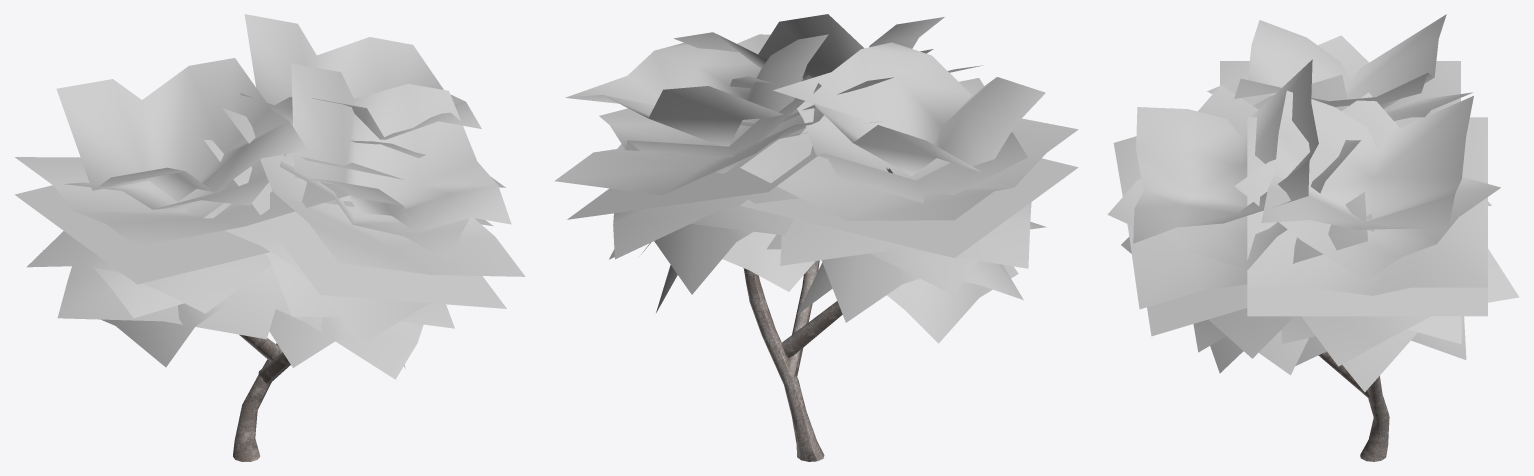
File: palm4.dae
3 views of the same model, side by side, from view 1: azimuth 30°, elevation 25°; view 2: azimuth 150°, elevation 25°; view 3: azimuth 270°, elevation 25° (orthographic). The views are drawn at different scales.
Parts seen in each view (by area): view 1: palm_4_Group2_Form23, palm_4_palm5; view 2: palm_4_Group2_Form23, palm_4_palm5; view 3: palm_4_Group2_Form23, palm_4_palm5.
Boxes of the visible parts, left/top/right/bottom form: palm_4_Group2_Form23: left=14, top=14, right=525, bottom=379; palm_4_palm5: left=233, top=334, right=290, bottom=461; palm_4_Group2_Form23: left=554, top=14, right=1078, bottom=343; palm_4_palm5: left=743, top=167, right=892, bottom=461; palm_4_Group2_Form23: left=1107, top=14, right=1518, bottom=392; palm_4_palm5: left=1318, top=351, right=1389, bottom=461.
Bounding box in the file's own units: 239 × 218 × 202.
